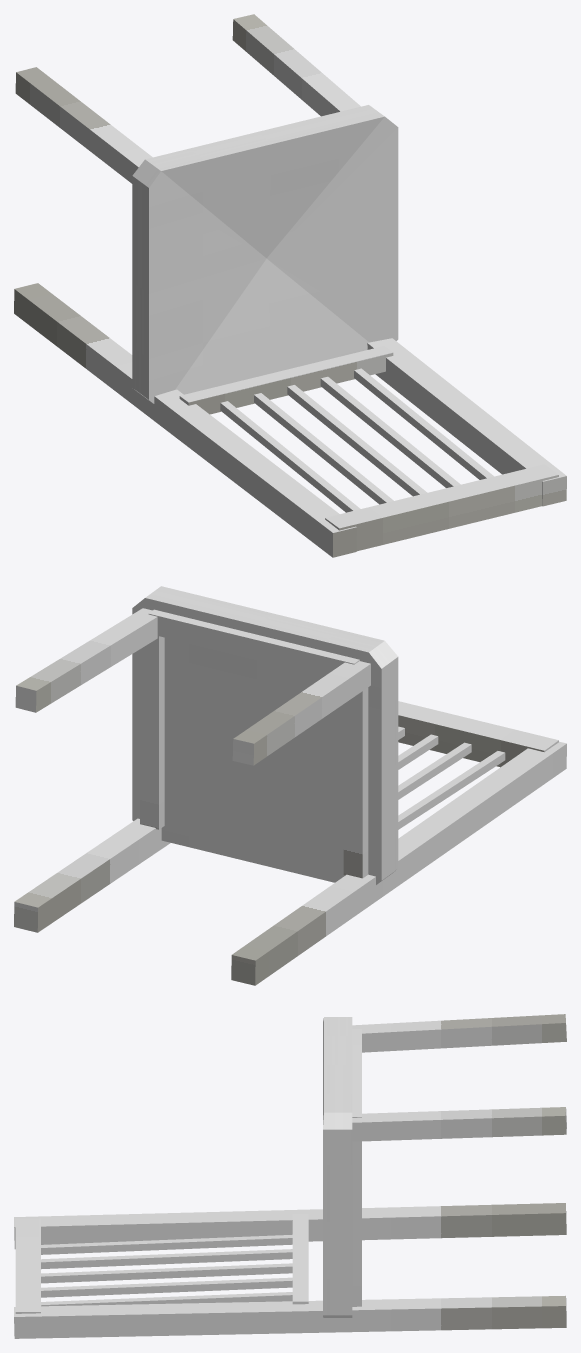
The model's file is pz_chair_seating_indoor_02_white_wooden_fidelity_r1.obj.
The picture shows the model from 3 angles, top to bottom: view 1: azimuth 30°, elevation 25°; view 2: azimuth 150°, elevation 25°; view 3: azimuth 270°, elevation 25°; orthographic projection. The views are drawn at different scales.
Visible parts, largest first — view 1: seat, wood; view 2: wood, seat; view 3: wood, seat.
Part boxes in pixels (x1,y1,x2,y2): seat: (132,105,398,403); wood: (14,14,566,557); wood: (14,608,566,985); seat: (132,586,398,884); wood: (14,1014,566,1338); seat: (323,1017,352,1317).
Size of the model in its own units: 0.4904 by 0.4816 by 1.08.
Materials: 1 (1 with a texture image).
